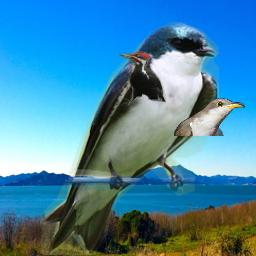Cuckoo: (174, 98, 245, 136)
Swallow: (40, 22, 219, 255)
Woodpecker: (119, 49, 166, 106)
